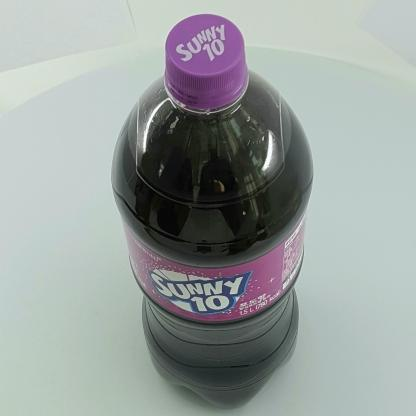-----------1-5L: (111, 14, 313, 409)
